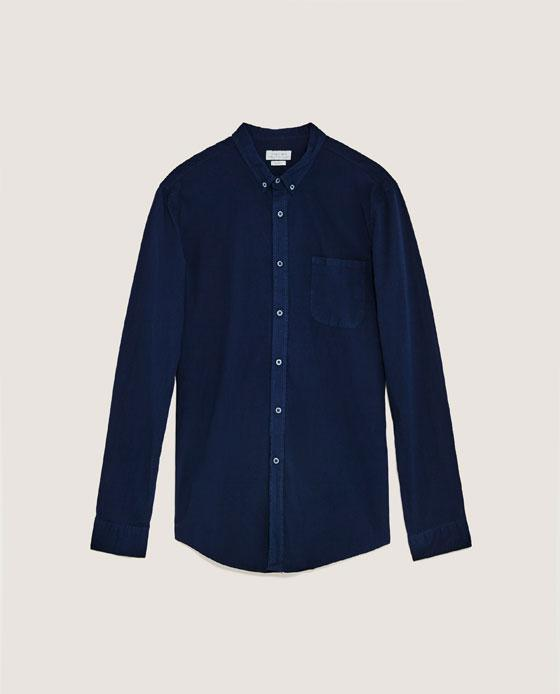teeshirt: (77, 124, 480, 582)
